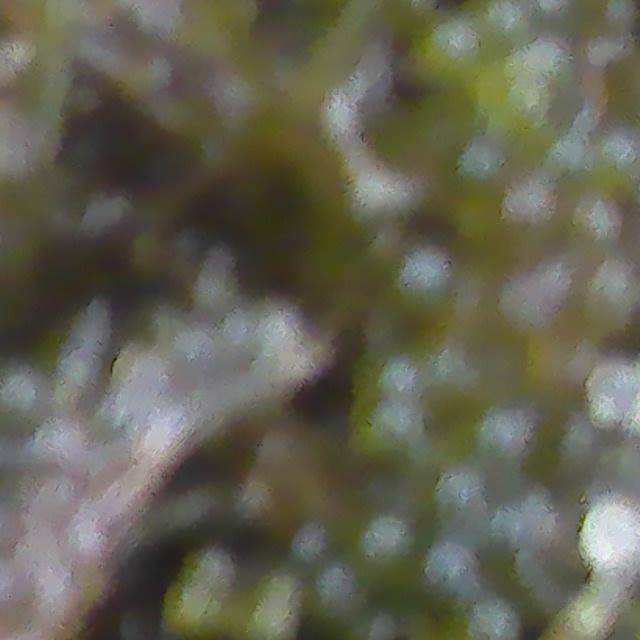SeaGrape: (412, 15, 484, 90), (579, 498, 640, 577), (587, 362, 640, 417)
